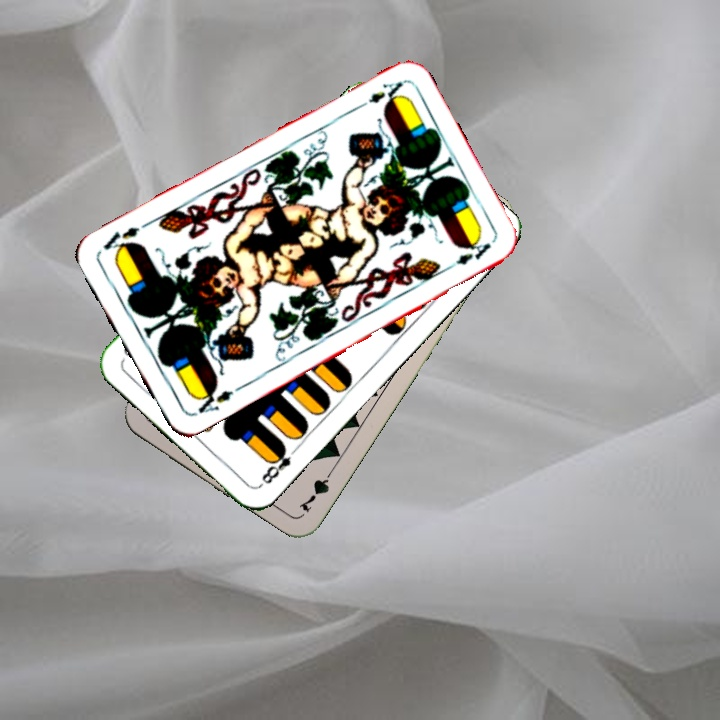E8: (255, 440, 301, 489)
EA: (351, 78, 406, 112), (189, 382, 236, 419)
G7: (294, 463, 338, 515)
